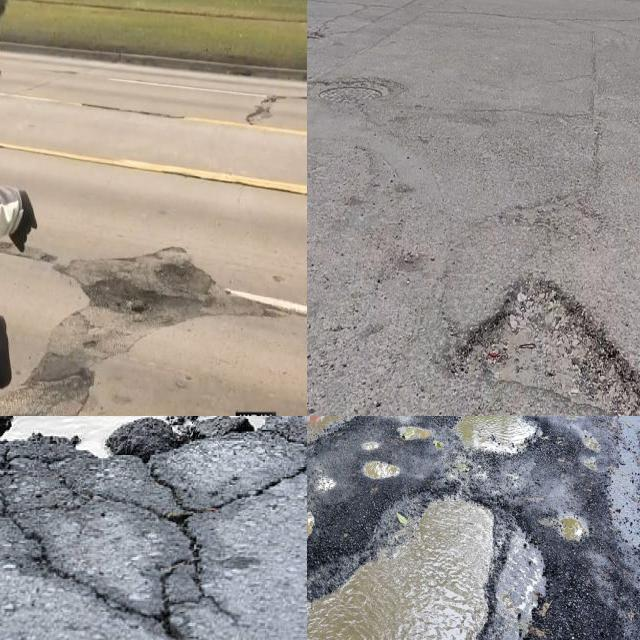Pothole: (27, 244, 269, 416), (307, 500, 545, 640), (459, 274, 640, 416), (457, 416, 533, 450)
